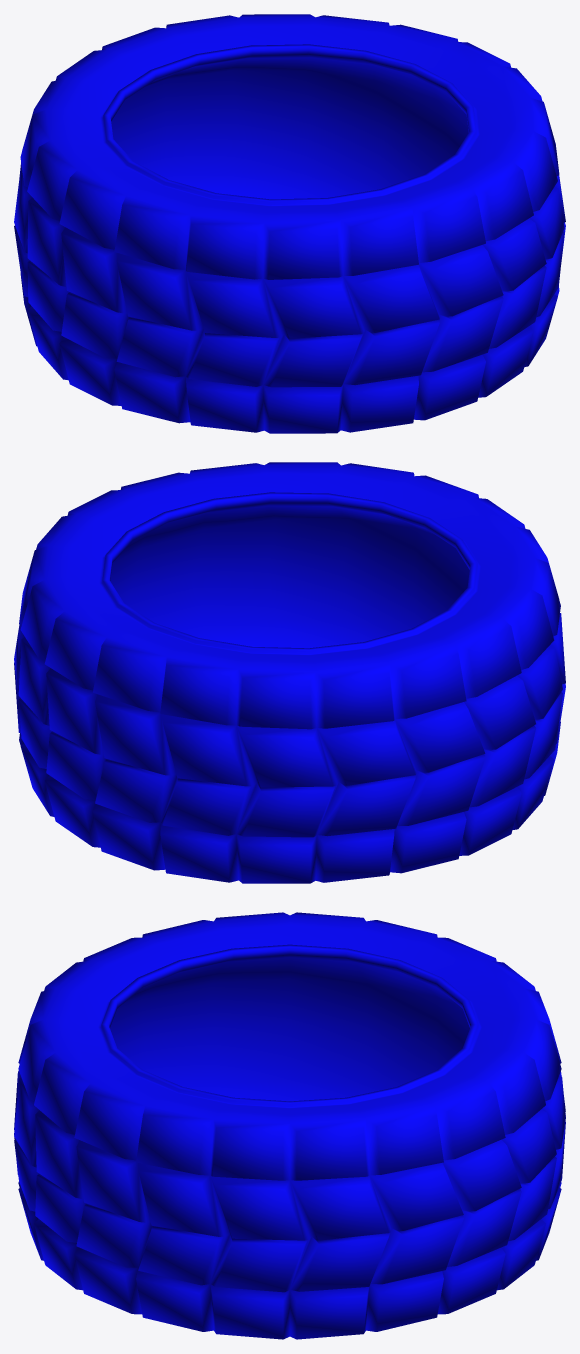
File: Tyre.fbx
The picture shows the model from 3 angles, top to bottom: view 1: azimuth 30°, elevation 25°; view 2: azimuth 150°, elevation 25°; view 3: azimuth 270°, elevation 25°; orthographic projection.
Visible parts, largest first — view 1: Cylinder2580; view 2: Cylinder2580; view 3: Cylinder2580.
Part boxes in pixels (left/top/right/bottom): Cylinder2580: left=14, top=14, right=565, bottom=433; Cylinder2580: left=14, top=462, right=565, bottom=883; Cylinder2580: left=14, top=912, right=565, bottom=1339.
Size of the model in its own units: 0.7891 by 0.3361 by 0.7891.
